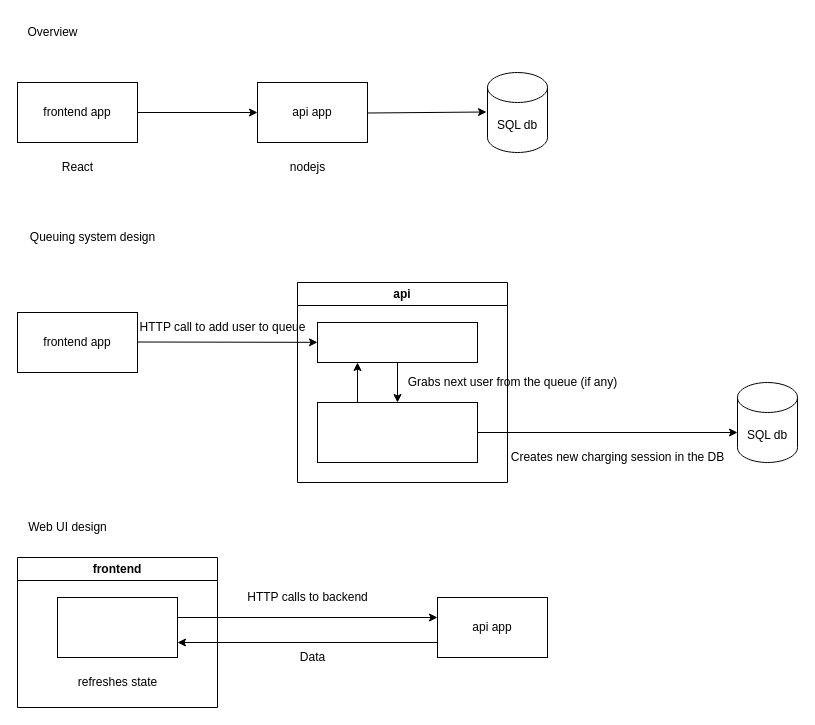
This 815x725 diagram has some shape labels left out. Here are the shapes that lost their labels. From the top down, the centre of each, then its label:
At [397,342]: "queue".
At [397,432]: "cron job".
At [117,627]: "polling mechanism".
